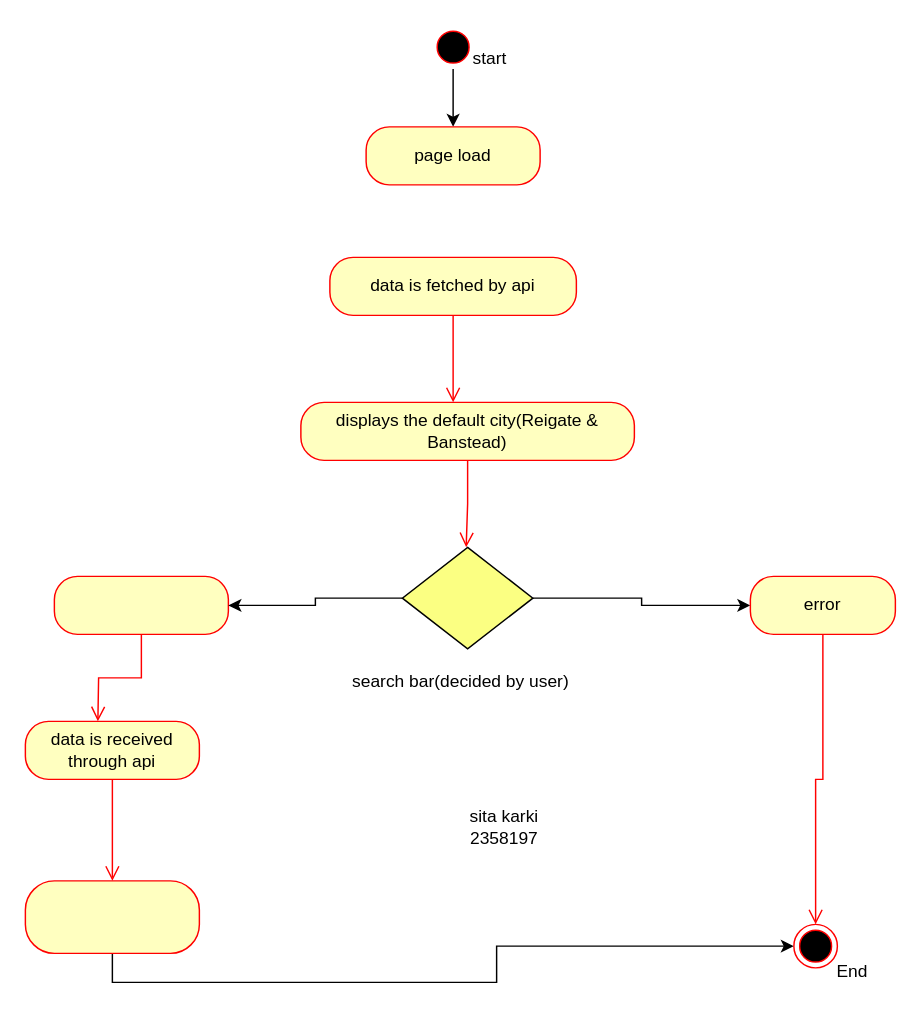
Image size: 921x1019. Some labels were removed from this diagram. The shapes that lost their labels are listed below. From the top down, each one's box as (x1, y1, x2, y2) in pixels, then its label:
(53, 575, 228, 634): request to api
(24, 879, 199, 953): display the weather info in the sceen
